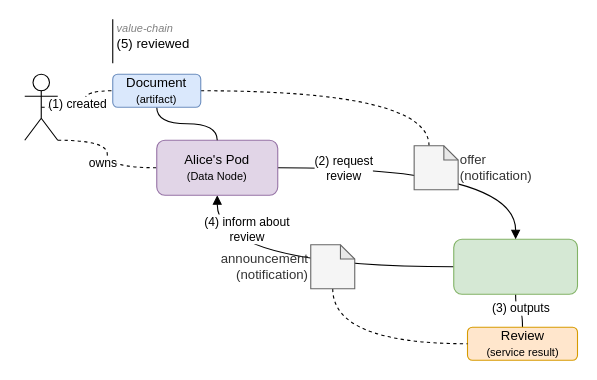
Image size: 597x380. Some labels were removed from this diagram. Here are the shapes that lost their labels. From the top down, the centre of each, then its label:
At (41,106): "Alice (agent)".
At (515,266): "Reviewing Service (Service Node & agent)".
